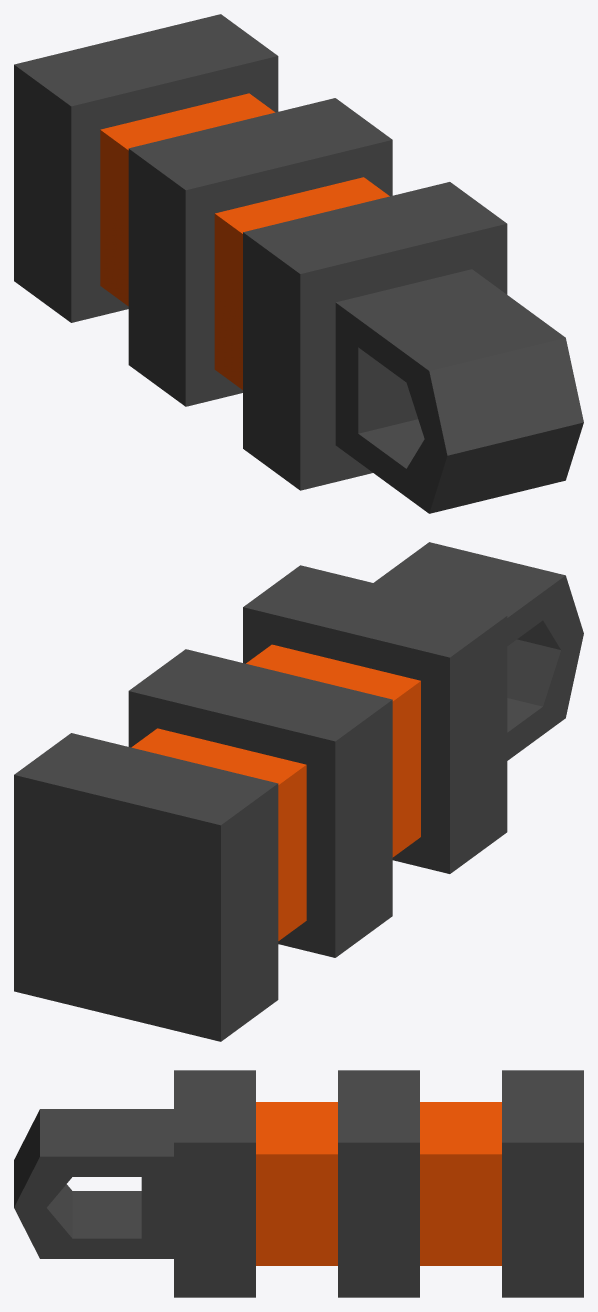
The model's file is hotcore.glb.
3 renders of one model, top to bottom at view 1: azimuth 30°, elevation 25°; view 2: azimuth 150°, elevation 25°; view 3: azimuth 270°, elevation 25°, orthographic. The views are drawn at different scales.
Parts seen in each view (by area): view 1: hotcore; view 2: hotcore; view 3: hotcore.
Boxes of the visible parts, left/top/right/bottom form: hotcore: left=14, top=14, right=583, bottom=513; hotcore: left=14, top=542, right=583, bottom=1041; hotcore: left=14, top=1070, right=583, bottom=1297.
Bounding box in the file's own units: 0.3 × 0.3 × 1.
